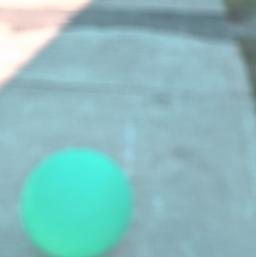algae: (22, 147, 131, 257)
